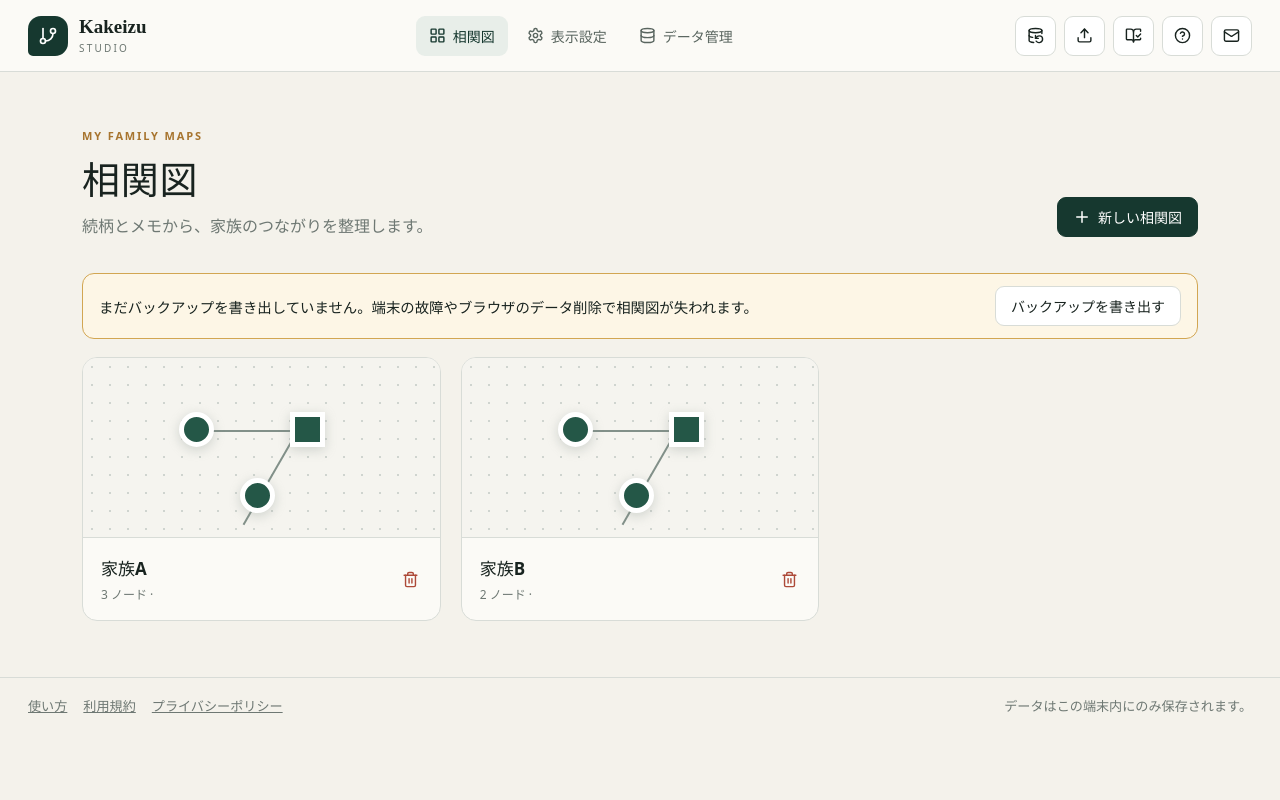
相関図一覧の個別JSON書き出し › 警告バーから画面遷移せずにバックアップ選択を開始する
The image size is (1280, 800).
What coordinates should you click on to do the following:
click the button "バックアップを書き出す"
I would click on:
 (1088, 306)
Its box is [995,286,1181,326].
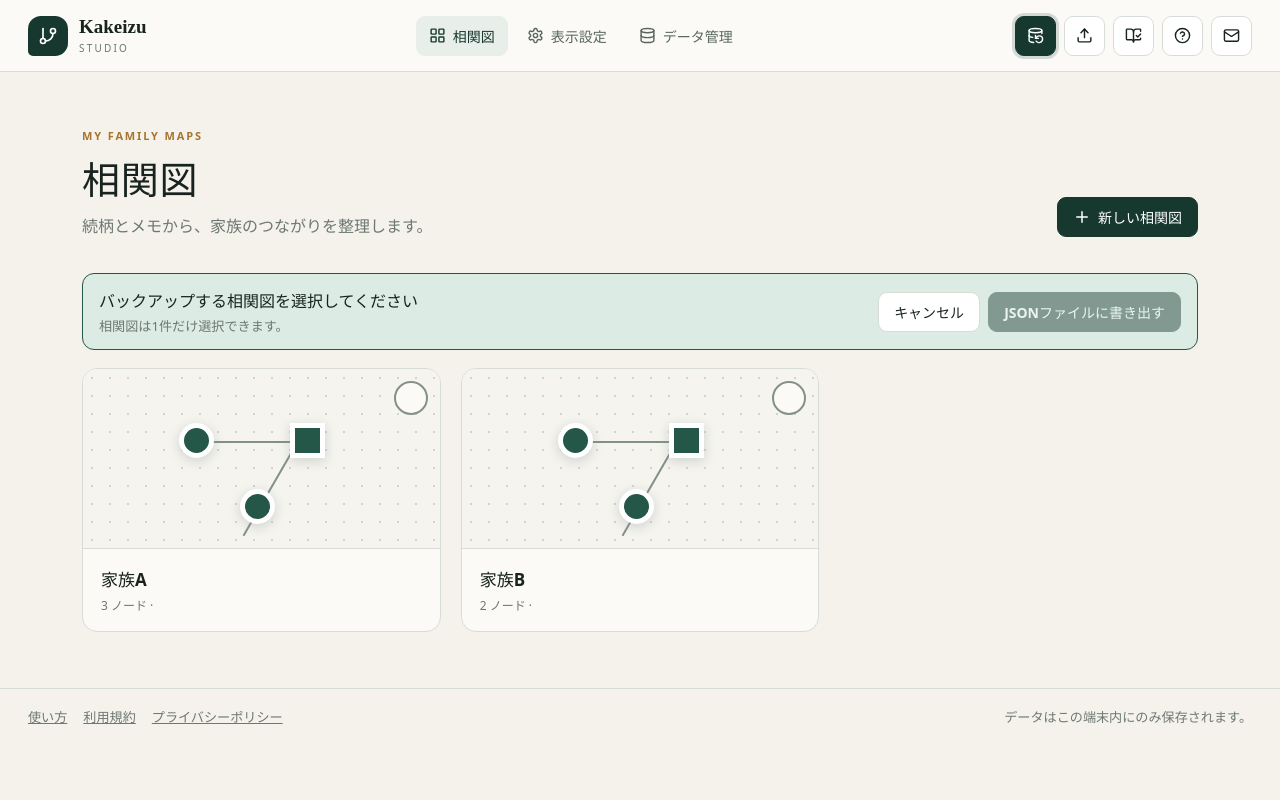
Check: the text "バックアップする相関図を選択してください" is shown, box [99,290,418,312]
